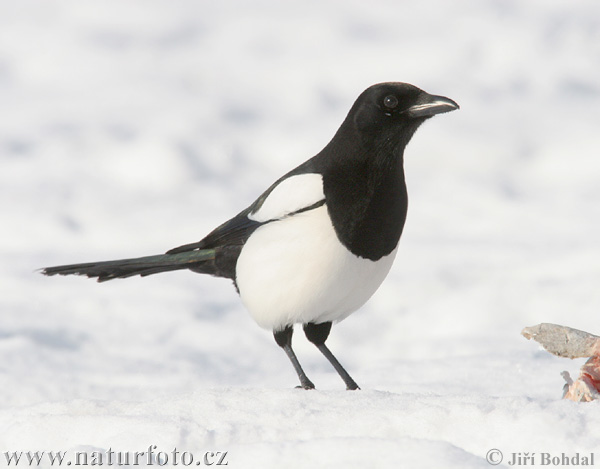magpie: (40, 84, 466, 391)
